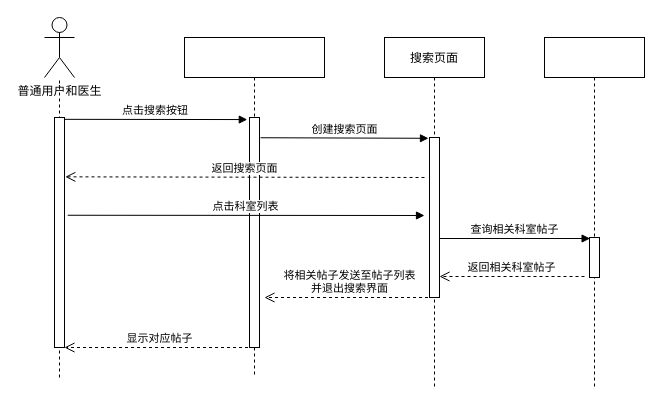
Image size: 662x405. Some labels were removed from this diagram. Here are the shapes that lost their labels. From the top down, the centre of each, then its label:
(x=254, y=207): 帖子列表界面
(x=594, y=212): 服务器
